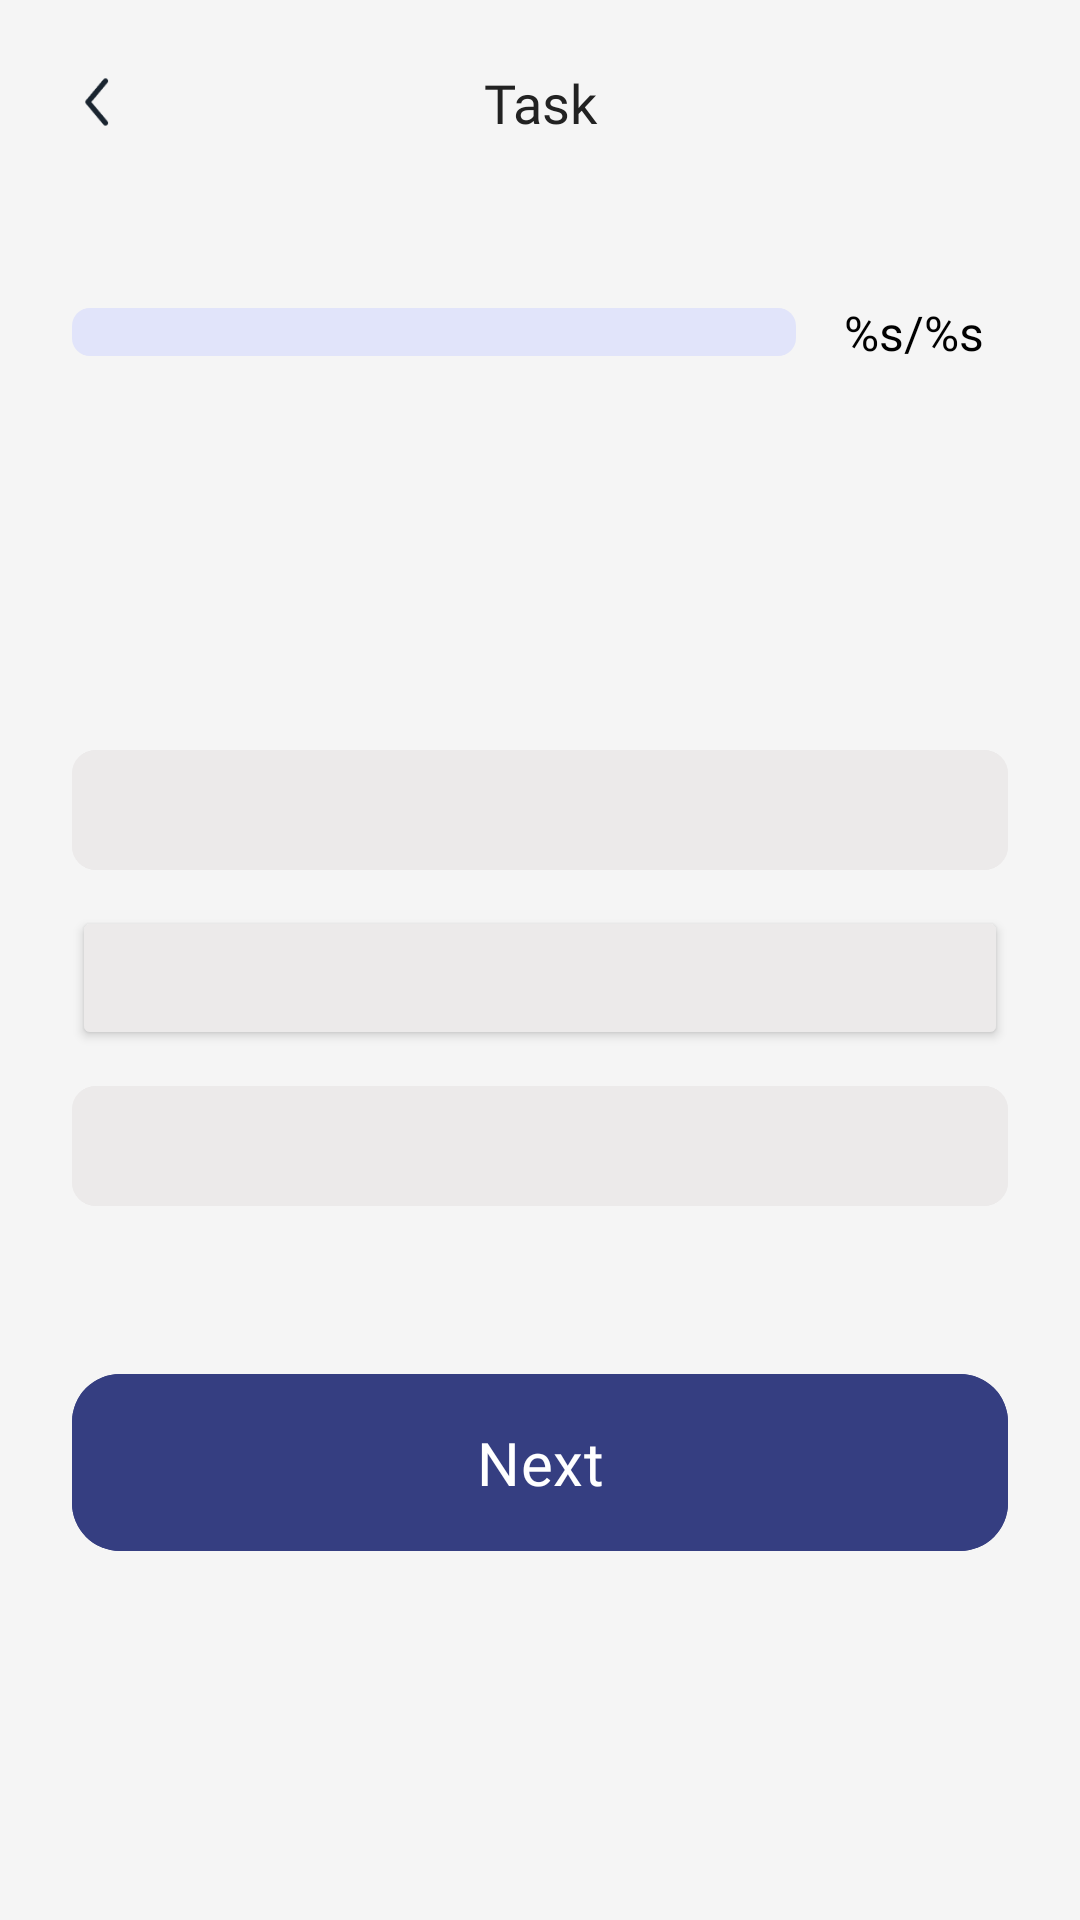

Where icons sit on this 1080w x 1920h app screen, as (left=x1, top=y1, right=x2, bottom=y2):
back: (left=85, top=78, right=108, bottom=126)
